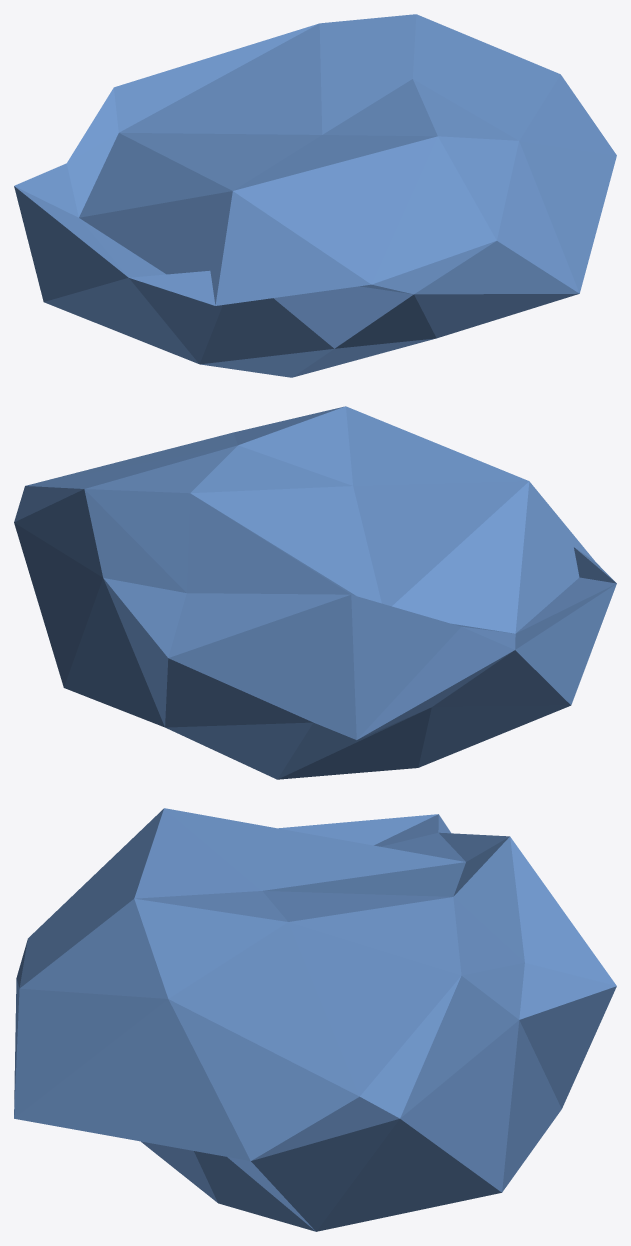
File: bag_blue.fbx
The picture shows the model from 3 angles, top to bottom: view 1: azimuth 30°, elevation 25°; view 2: azimuth 150°, elevation 25°; view 3: azimuth 270°, elevation 25°; orthographic projection. The views are drawn at different scales.
Visible parts, largest first — view 1: bag_blue; view 2: bag_blue; view 3: bag_blue.
Part boxes in pixels (bbox=[...]): bag_blue: bbox=[14, 14, 616, 377]; bag_blue: bbox=[14, 406, 616, 779]; bag_blue: bbox=[14, 808, 616, 1231].
Bounding box in the file's own units: 0.1441 × 0.0646 × 0.1191.
